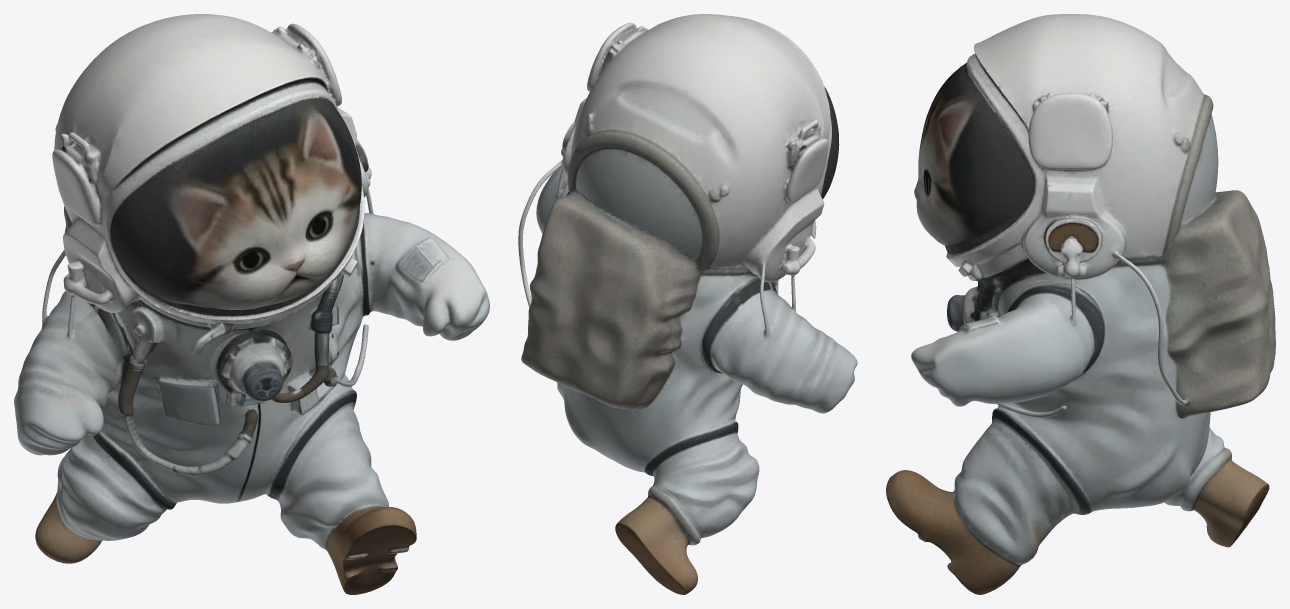
The model's file is cat.glb.
3 views of the same model, side by side, from view 1: azimuth 30°, elevation 25°; view 2: azimuth 150°, elevation 25°; view 3: azimuth 270°, elevation 25° (orthographic). The views are drawn at different scales.
Parts seen in each view (by area): view 1: mesh_node; view 2: mesh_node; view 3: mesh_node.
Boxes of the visible parts, x1,y1,x2,y2 form: mesh_node: (14,14,489,594); mesh_node: (518,14,857,594); mesh_node: (886,14,1275,594).
Size of the model in its own units: 1.35 by 1.9 by 1.24.
1 material, 1 textured.
